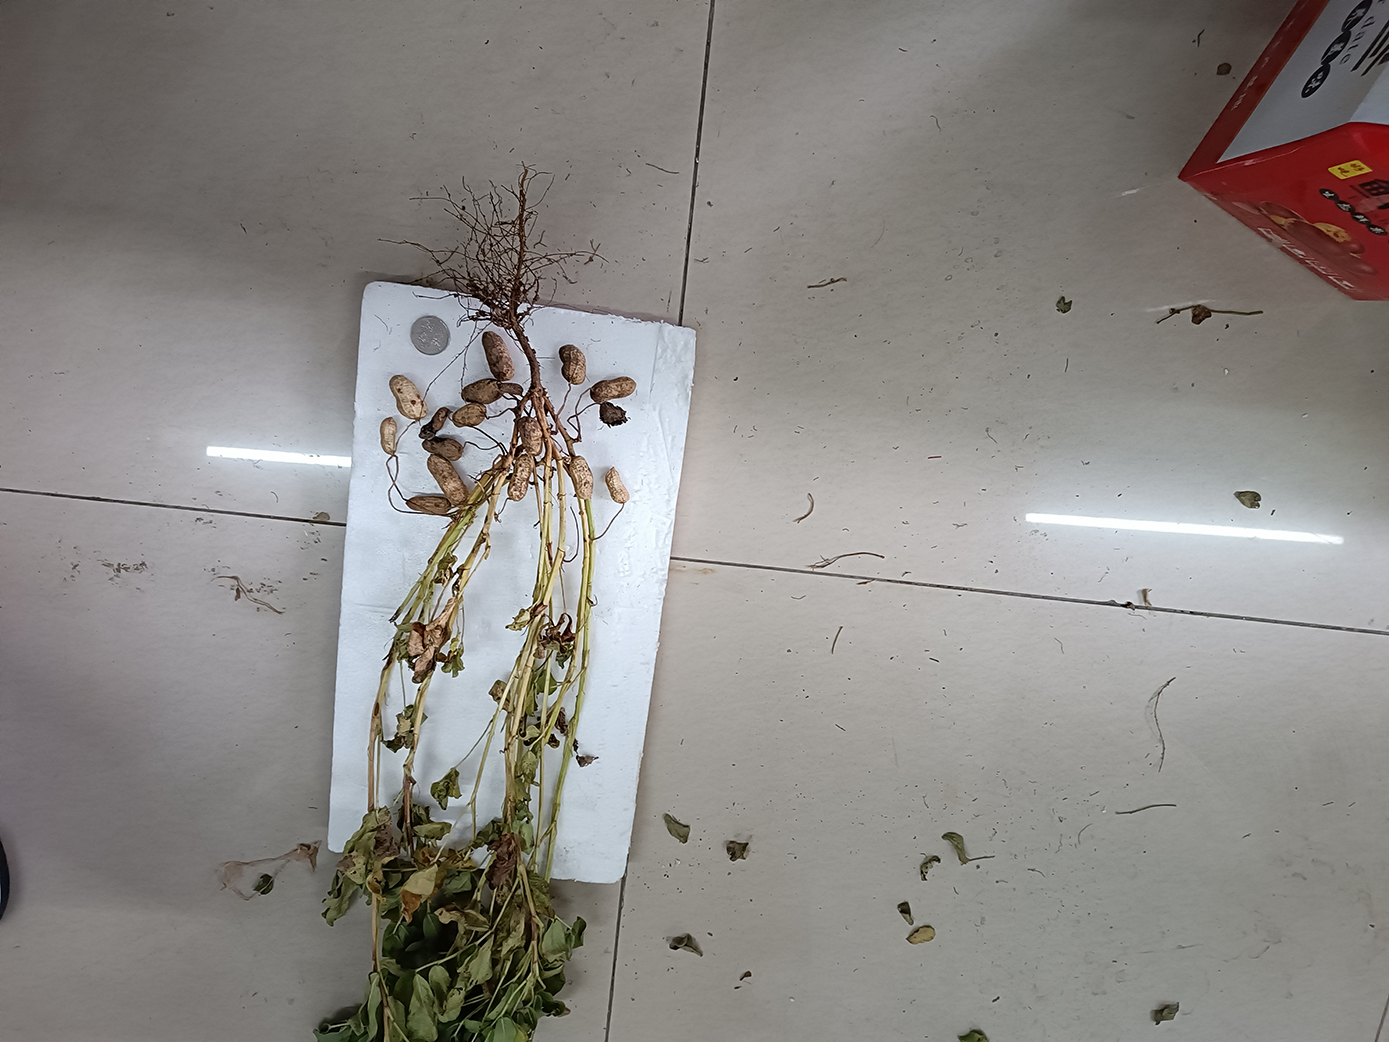h: (426, 453, 467, 506), (387, 374, 427, 419), (558, 344, 586, 385), (569, 456, 594, 500), (517, 417, 543, 456), (605, 466, 630, 503), (451, 402, 486, 428), (379, 417, 398, 455)
l: (481, 329, 516, 381), (589, 375, 636, 403), (507, 453, 531, 502), (417, 406, 451, 439), (461, 378, 500, 404), (421, 437, 463, 461), (599, 400, 629, 429), (405, 496, 451, 516), (499, 382, 523, 395)
